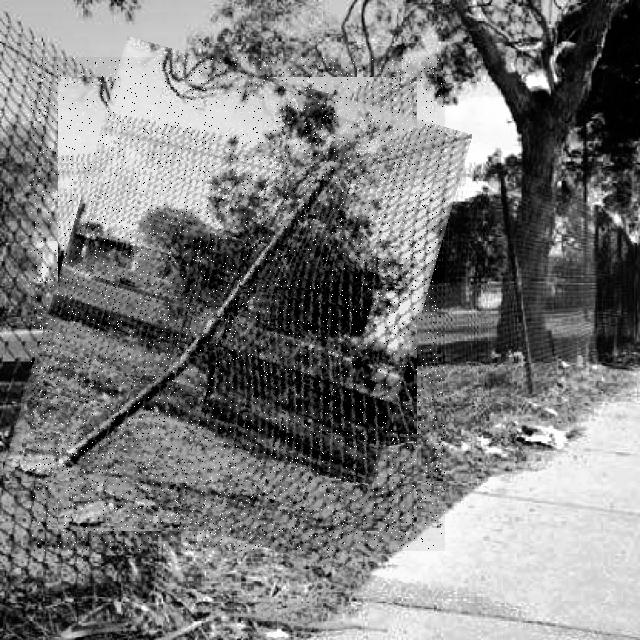anomaly-fence: (30, 57, 445, 551)
